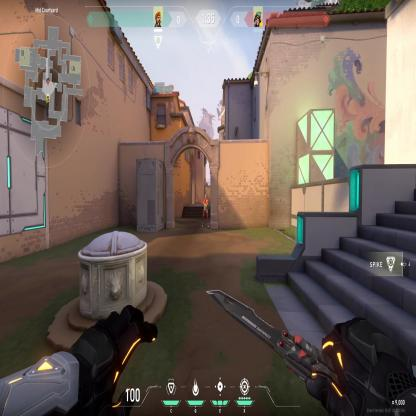enemy: (202, 194, 210, 228)
